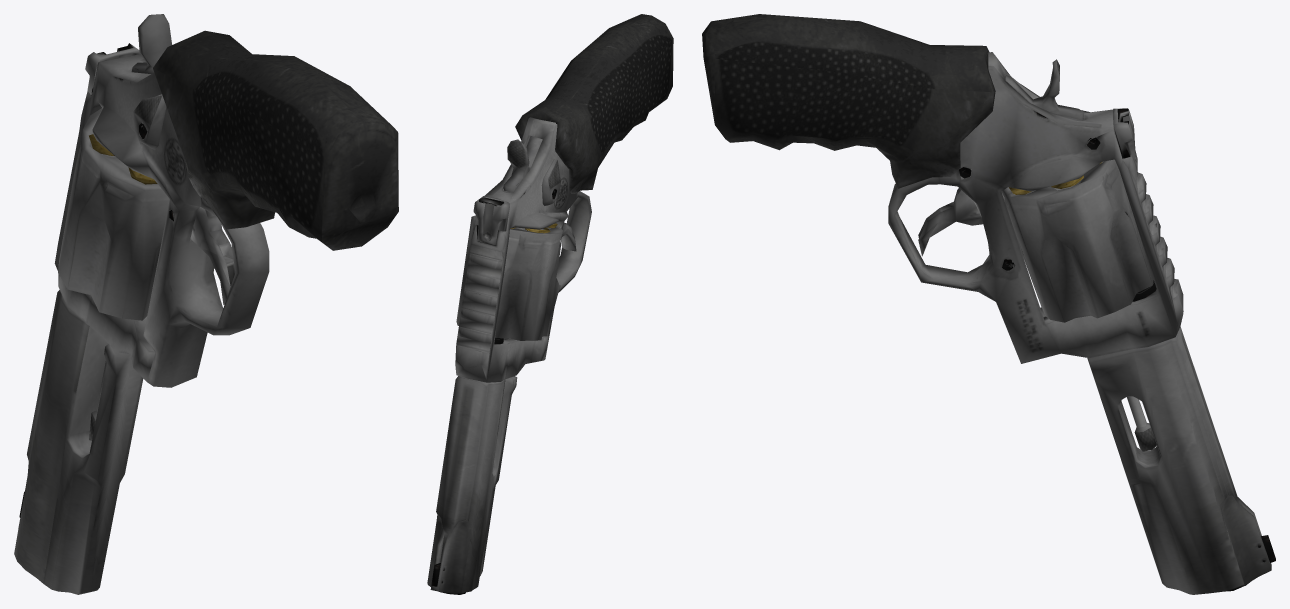
The model's file is RevolverMelee.fbx.
3 views of the same model, side by side, from view 1: azimuth 30°, elevation 25°; view 2: azimuth 150°, elevation 25°; view 3: azimuth 270°, elevation 25° (orthographic). The views are drawn at different scales.
Visible parts, largest first — view 1: Revolver; view 2: Revolver; view 3: Revolver.
Part boxes in pixels (x1,y1,x2,y2): Revolver: [14, 14, 398, 594]; Revolver: [427, 14, 673, 594]; Revolver: [702, 14, 1275, 594].
Size of the model in its own units: 0.0322 by 0.1678 by 0.1527.
